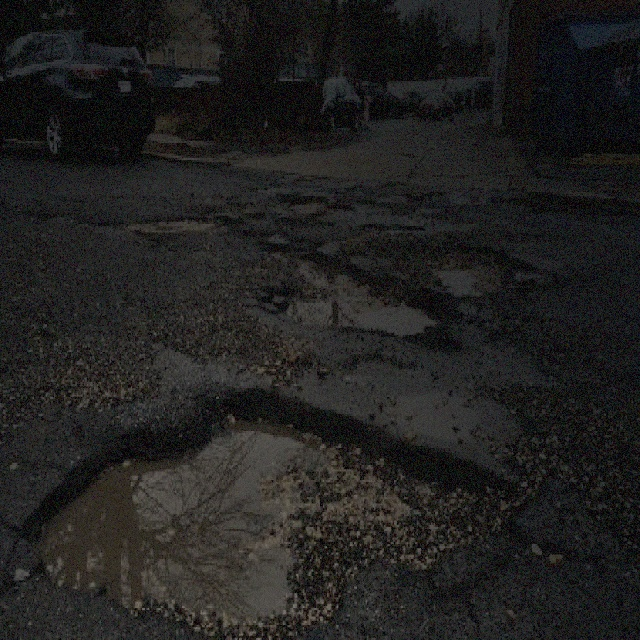pothole: (17, 382, 525, 633), (252, 246, 455, 356), (422, 239, 536, 299), (109, 211, 212, 233), (286, 192, 330, 215)
